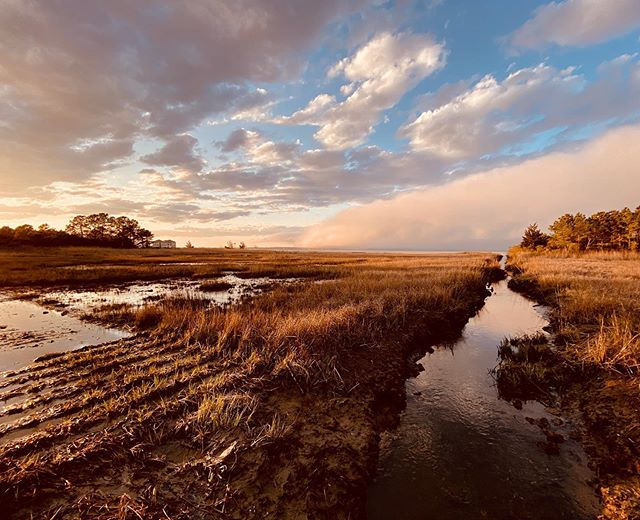grass: (1, 252, 386, 520), (534, 251, 640, 423)
river: (346, 256, 596, 515)
sky: (1, 1, 640, 211)
vegetation: (529, 208, 640, 260), (1, 211, 158, 244)
